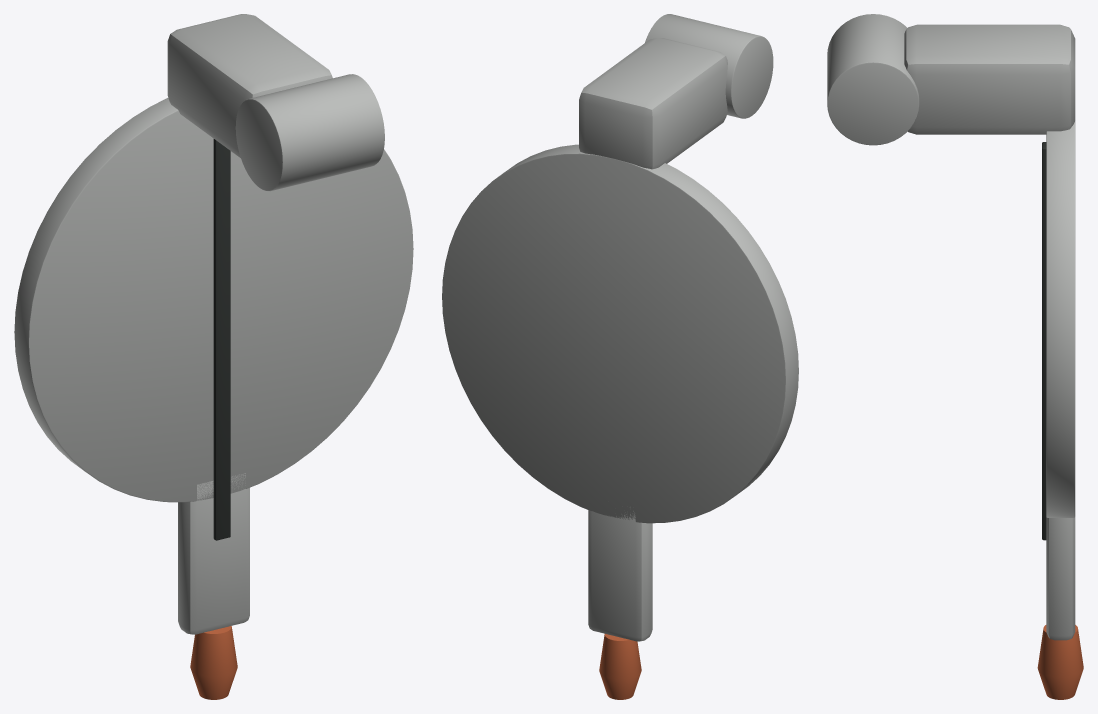
Rendered from mitre_saw_turntable.glb.
The picture shows the model from 3 angles, left to right: view 1: azimuth 30°, elevation 25°; view 2: azimuth 150°, elevation 25°; view 3: azimuth 270°, elevation 25°; orthographic projection. The views are drawn at different scales.
Visible parts, largest first — view 1: mitre_saw_turntable; view 2: mitre_saw_turntable; view 3: mitre_saw_turntable.
Boxes of the visible parts, x1,y1,x2,y2 form: mitre_saw_turntable: (14, 14, 413, 699); mitre_saw_turntable: (442, 14, 798, 699); mitre_saw_turntable: (827, 14, 1083, 699).
Size of the model in its own units: 0.3 by 0.504 by 0.178.
